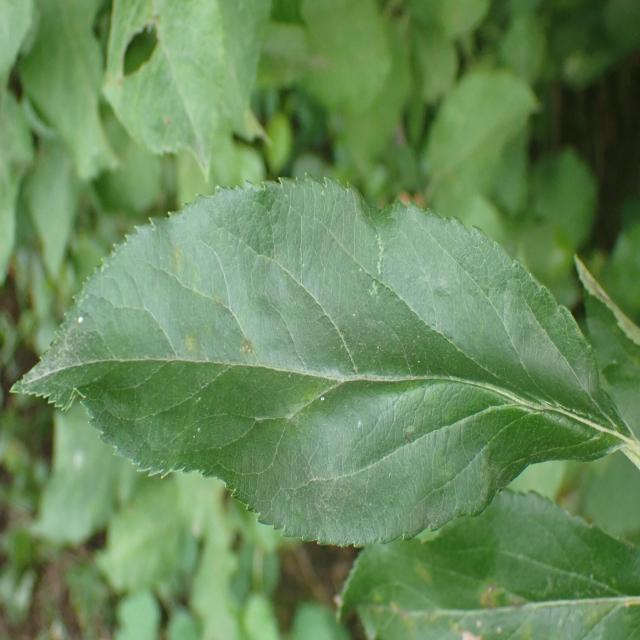scab: (62, 207, 547, 517)
